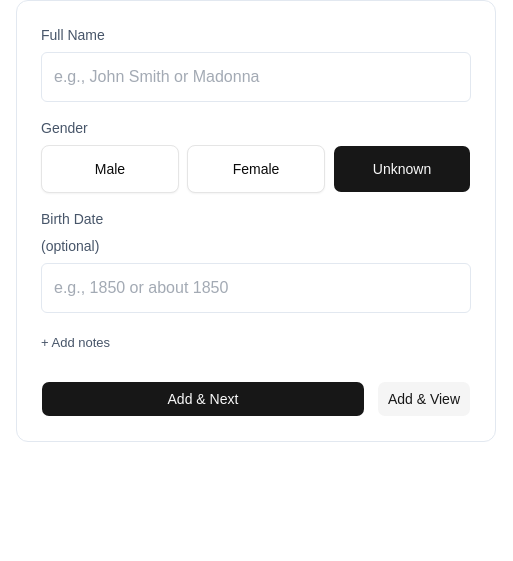
Test: QuickCapture dates (#996) › offers no Keep as text for a date that reads but does not exist
In the field labelled "Full Name": (256, 77) [41,52,471,102], type "Ada Lovelace"
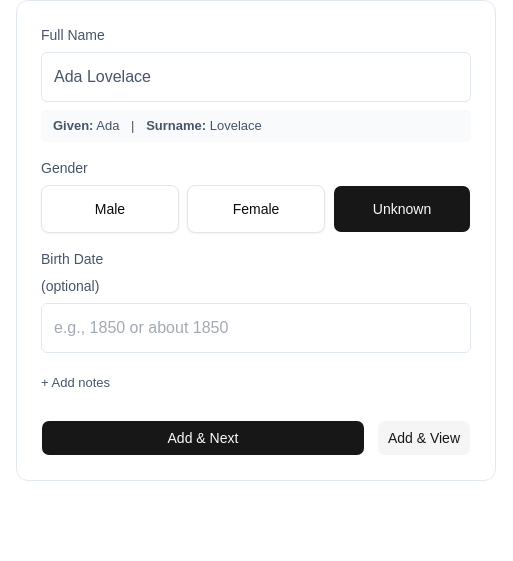
In the field labelled "Birth Date (optional)": (256, 328) [41,302,471,352], type "31 FEB 1900"
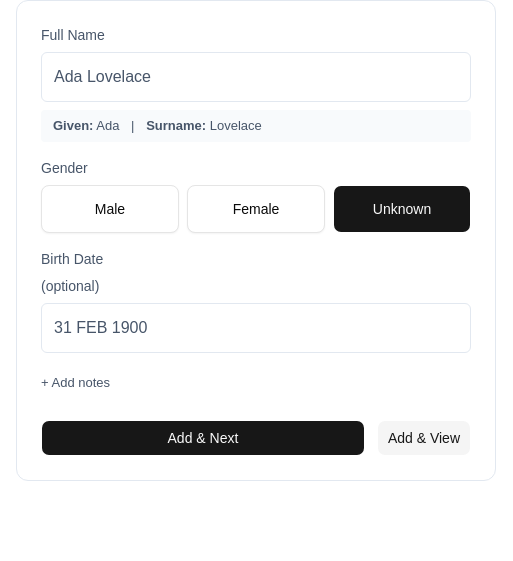
Click the button "Add & Next": (203, 438) [41,420,365,456]
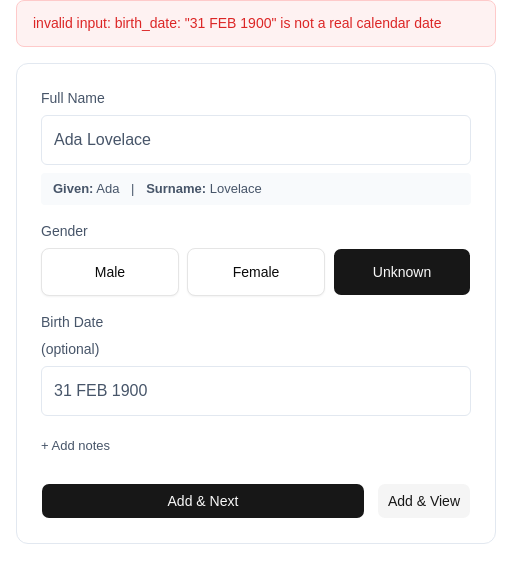
Expected: the message shows "is not a real calendar date", [33,15,441,31]
